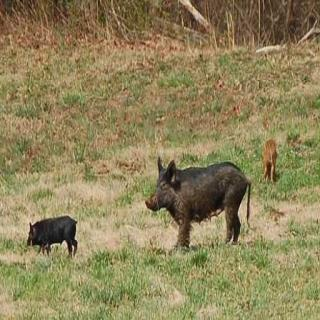Pig: (140, 141, 263, 259)
